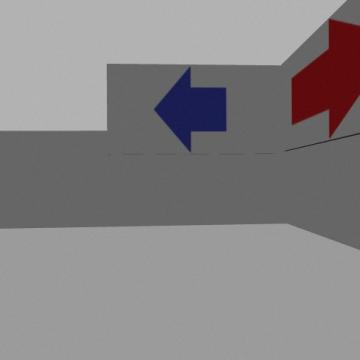blue_left: (154, 67, 226, 151)
red_right: (291, 20, 359, 138)
